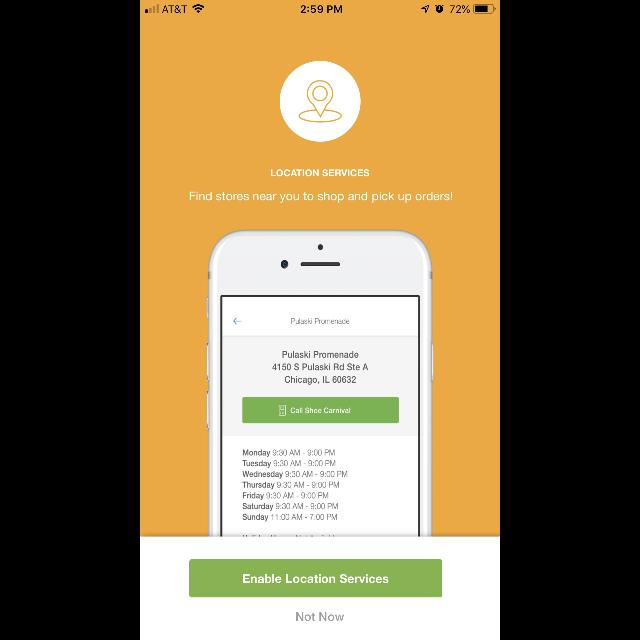icon: (280, 60, 360, 142)
image: (206, 229, 434, 536)
text: (190, 192, 452, 202), (271, 170, 369, 177), (296, 612, 344, 622)
textbutton: (190, 559, 442, 597)
uppertaskbar: (140, 0, 500, 14)
